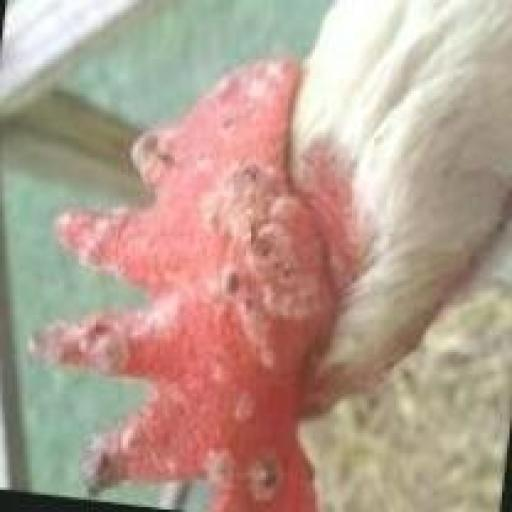disease: (193, 138, 336, 360), (66, 195, 168, 287), (50, 308, 191, 374), (100, 419, 188, 507), (206, 438, 288, 512), (220, 63, 288, 130), (204, 366, 268, 424), (134, 110, 184, 183)
